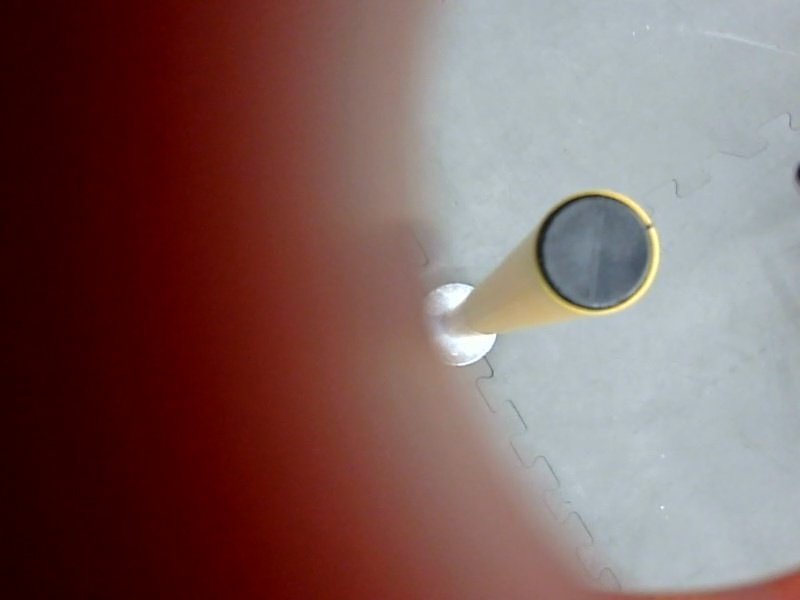tip: (529, 183, 665, 327)
